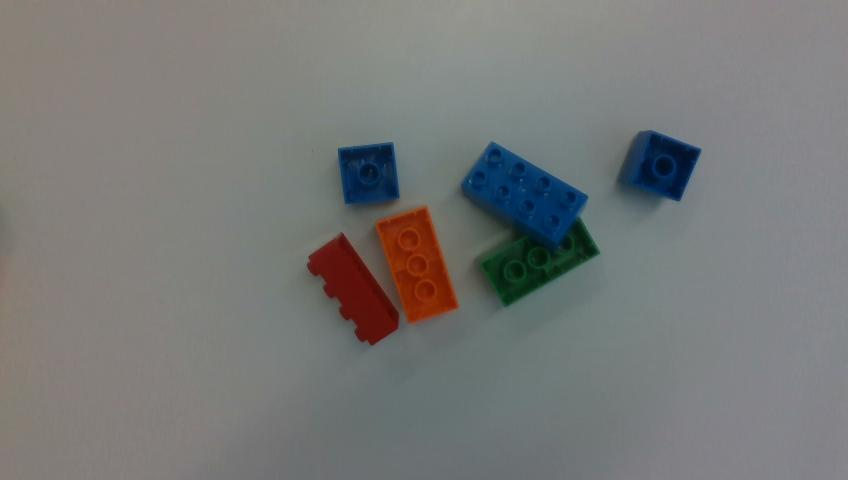2x2_blue: (618, 131, 700, 200), (339, 143, 399, 204)
4x2_blue: (462, 142, 587, 251)
4x2_green: (479, 217, 599, 306)
4x2_orange: (376, 207, 458, 322)
4x2_red: (307, 233, 397, 344)
